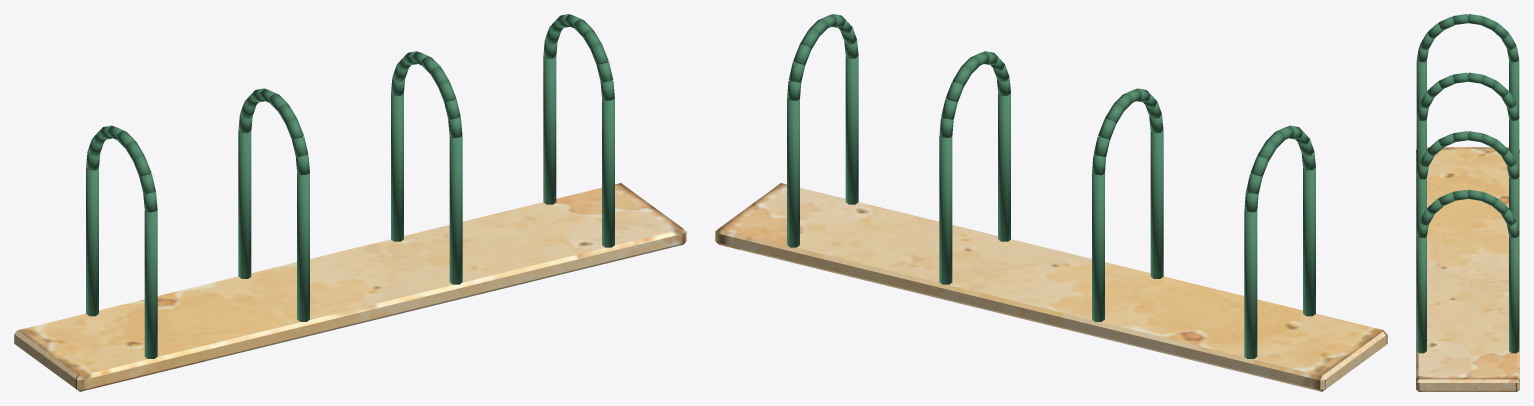
3 renders of one model, left to right at view 1: azimuth 30°, elevation 25°; view 2: azimuth 150°, elevation 25°; view 3: azimuth 270°, elevation 25°, orthographic. The views are drawn at different scales.
Parts seen in each view (by area): view 1: seaside_stone, house_paint; view 2: seaside_stone, house_paint; view 3: seaside_stone, house_paint.
Part boxes in pixels (bbox=[...]): seaside_stone: bbox=[14, 183, 686, 391]; house_paint: bbox=[86, 14, 614, 358]; seaside_stone: bbox=[715, 183, 1387, 391]; house_paint: bbox=[787, 14, 1315, 358]; seaside_stone: bbox=[1416, 147, 1519, 391]; house_paint: bbox=[1416, 14, 1519, 353].
Size of the model in its own units: 2.4 by 0.8317 by 0.45.
Materials: 2 (2 with a texture image).
